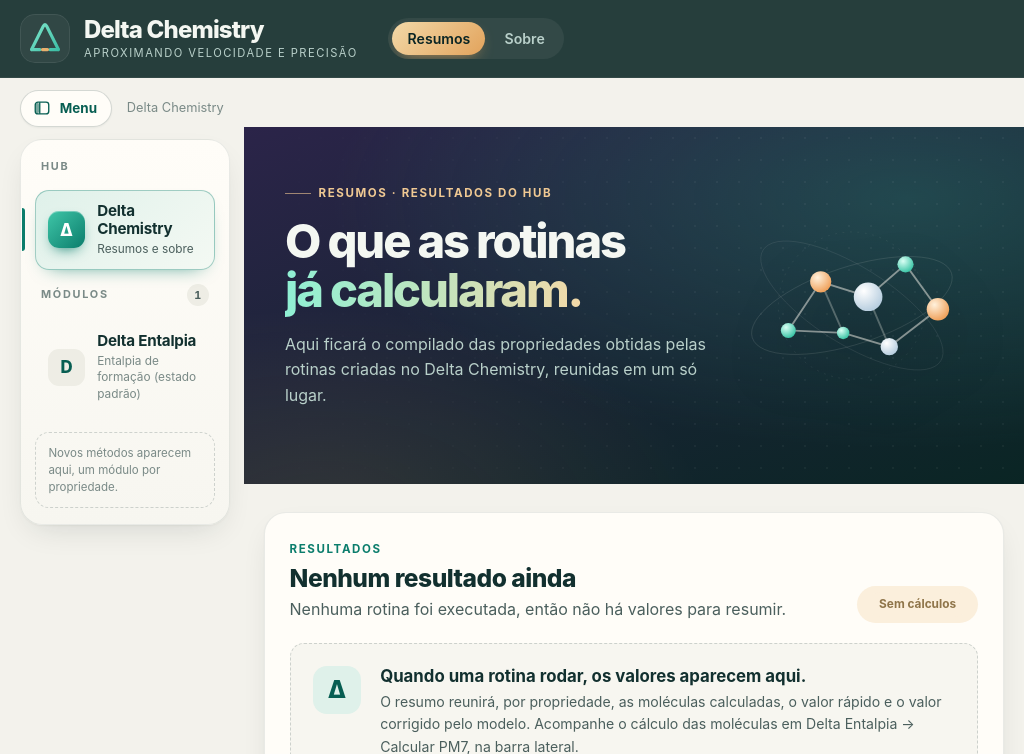
it: mostra estados vazios da fila e do store
This screenshot has width=1024, height=754.
Click the button "D Delta Entalpia Entalpia de formação (estado padrão)".
click(125, 367)  # box [35,320,215,415]
(page scrolled)
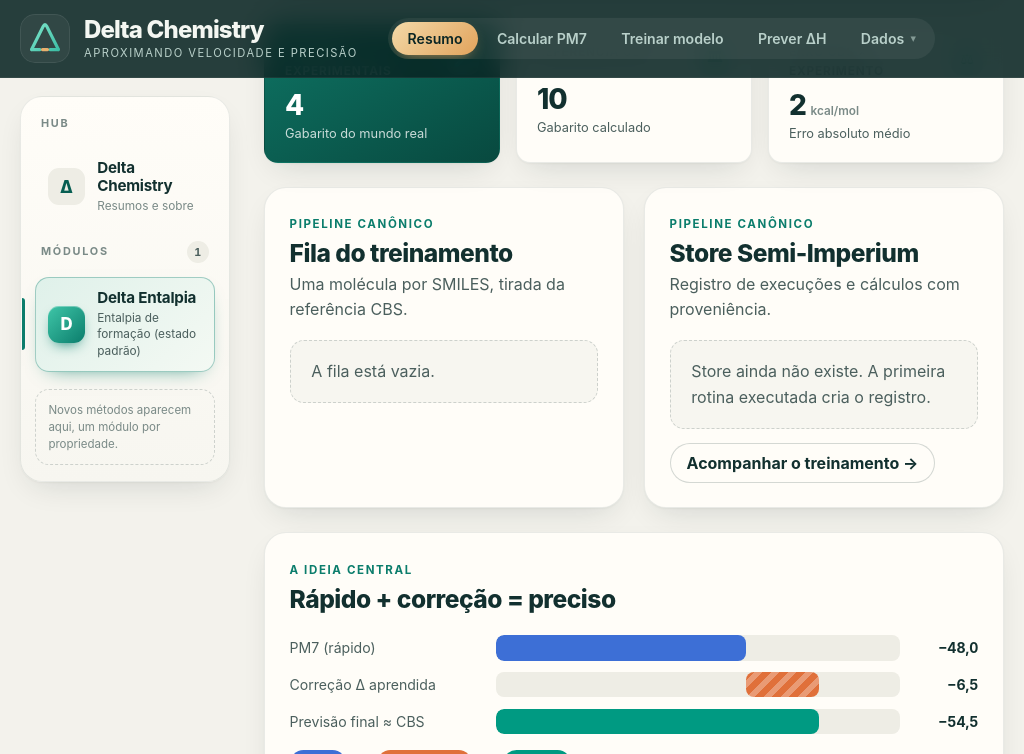
Expected: the text "A fila está vazia." is shown, [290,340,598,403]
Expected: the text "Store ainda não existe" is shown, [691,361,945,407]
